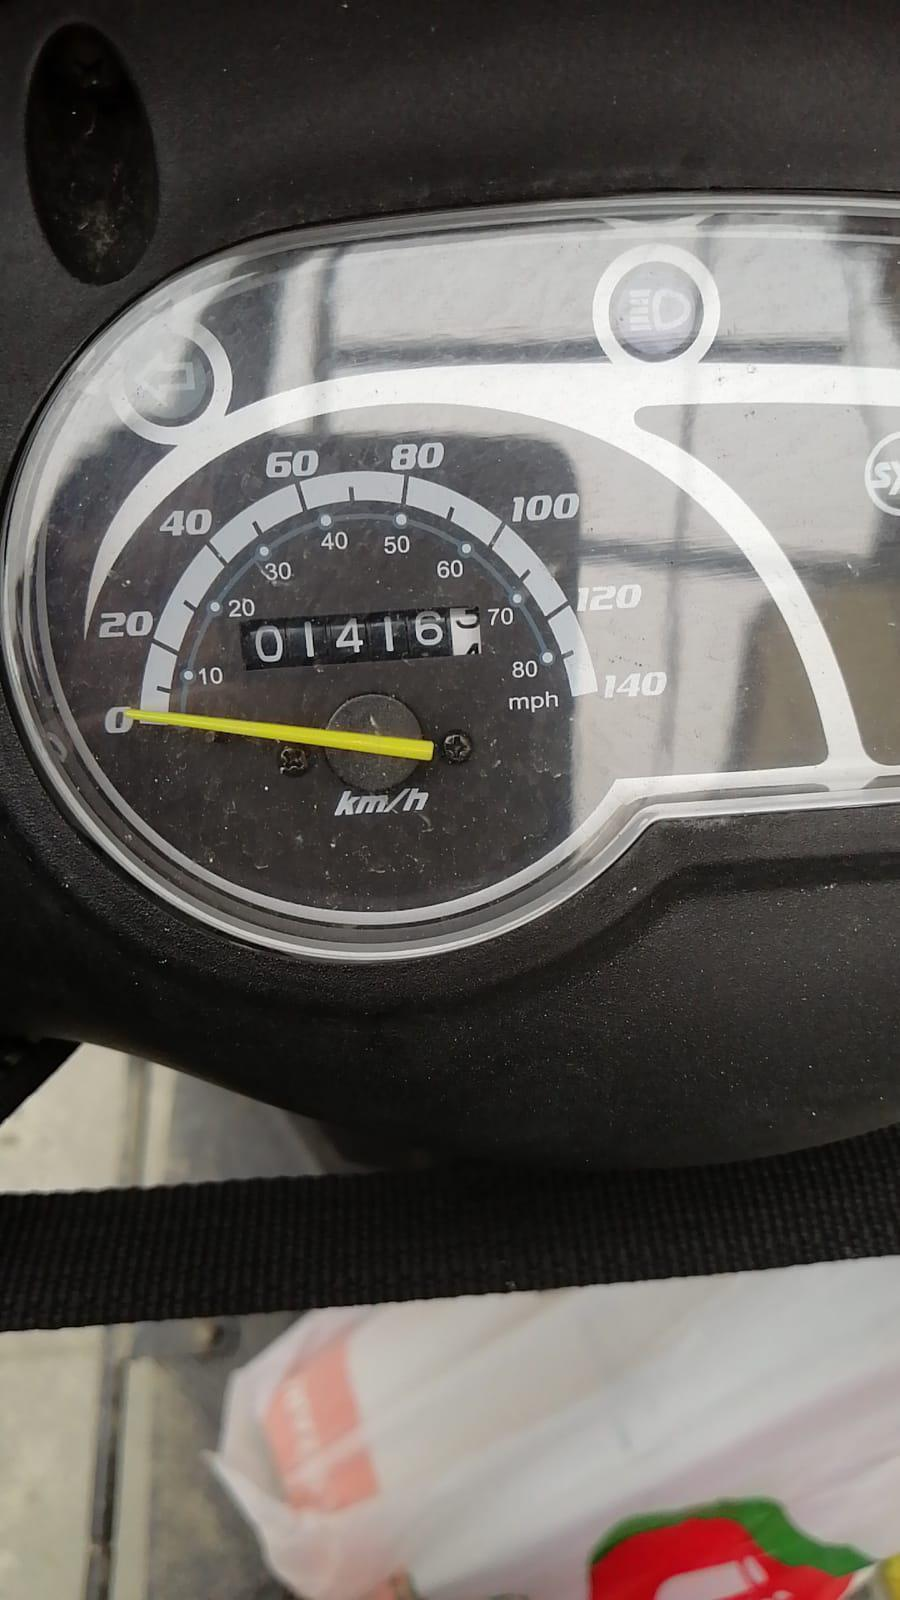0: (251, 624, 285, 665), (242, 596, 258, 618)
1: (378, 608, 398, 662), (299, 616, 321, 663)
3: (451, 601, 484, 637)
4: (333, 614, 368, 658)
6: (411, 607, 445, 653)
odometer: (238, 600, 487, 677)
